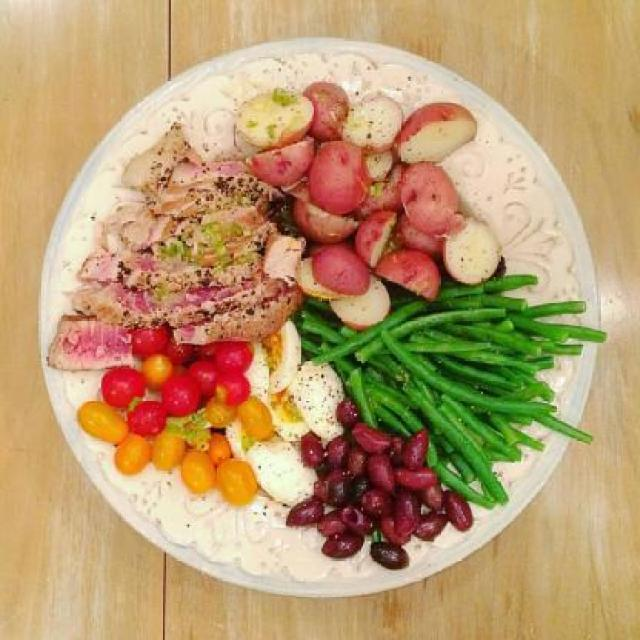Salad: (42, 70, 615, 579)
